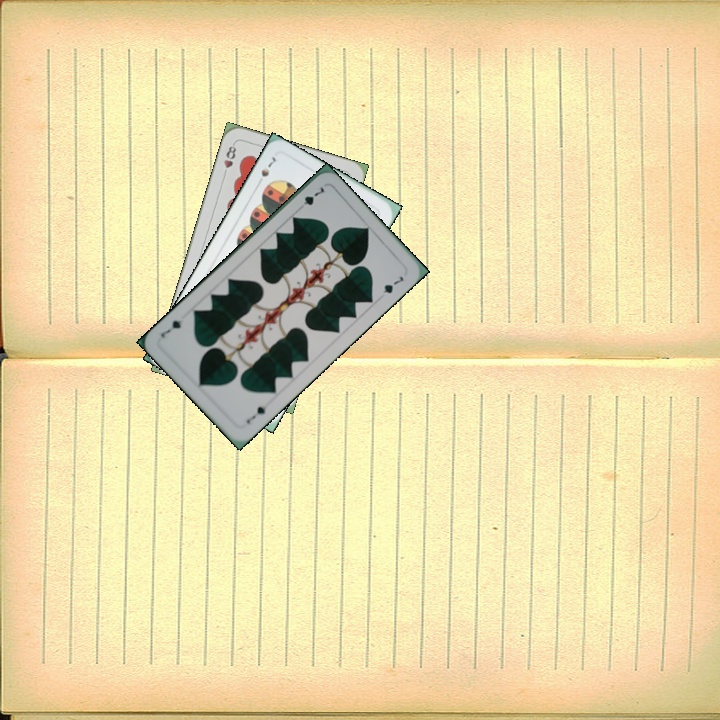G7: (293, 183, 327, 212), (242, 400, 272, 427)
H8: (219, 139, 239, 179)
S7: (253, 153, 279, 189)
